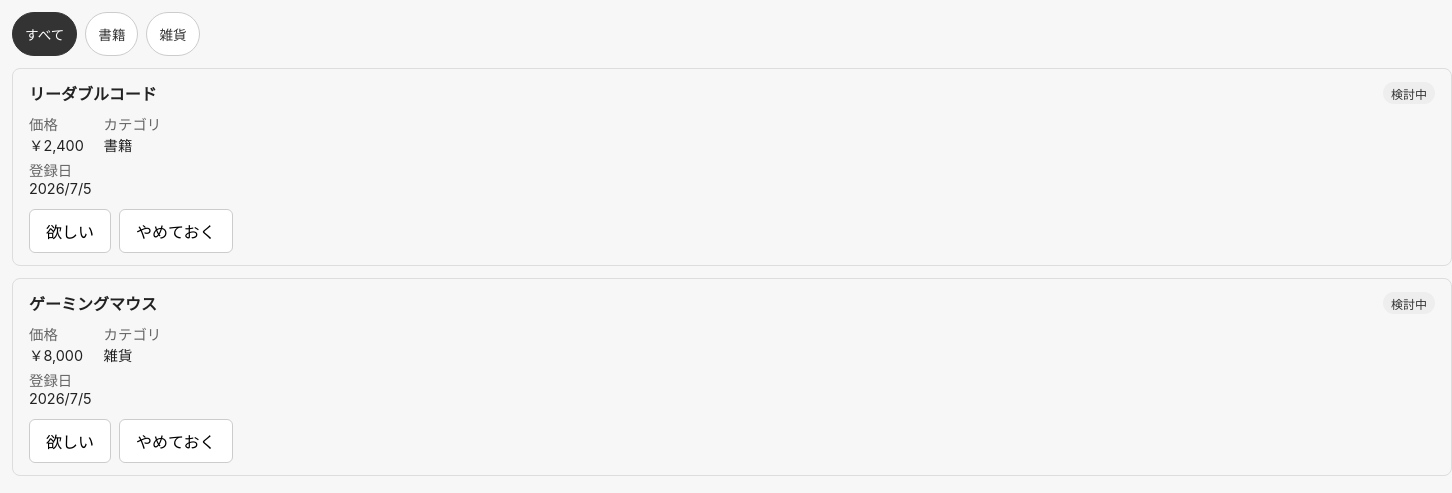
WishItemList › カテゴリを選択すると該当カテゴリのみ表示される
Expected: the heading "リーダブルコード" is shown, [29,81,157,105]
Expected: the heading "ゲーミングマウス" is shown, [29,291,157,315]
Click the button "書籍".
click(112, 34)  # box [85,12,138,56]
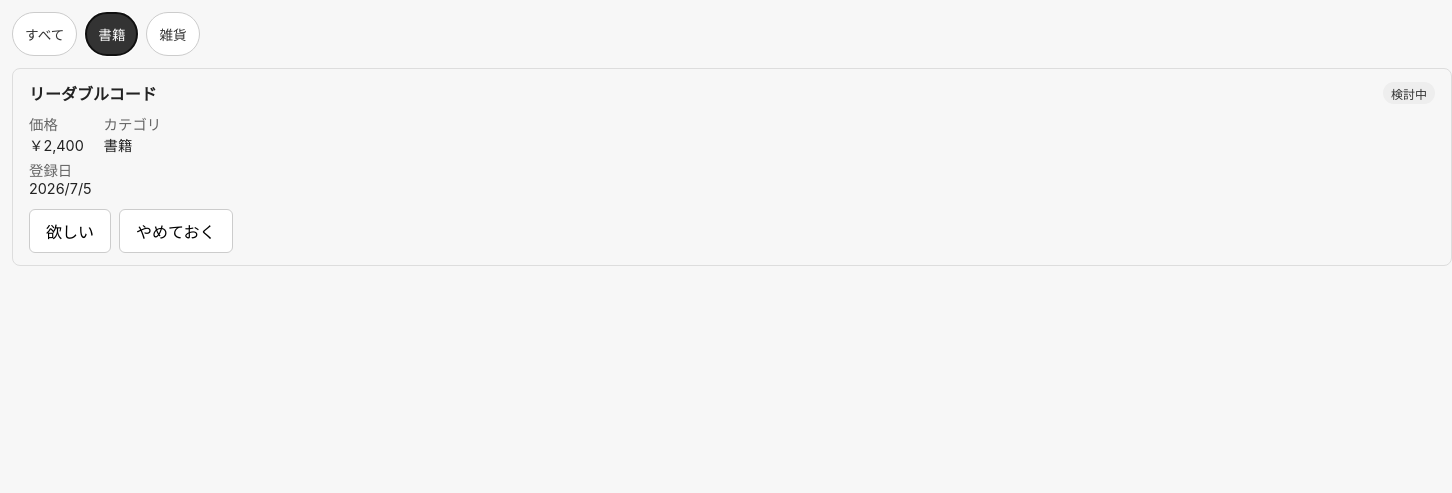
Expected: the heading "リーダブルコード" is shown, [29,81,157,105]
Expected: the heading "ゲーミングマウス" is gone
